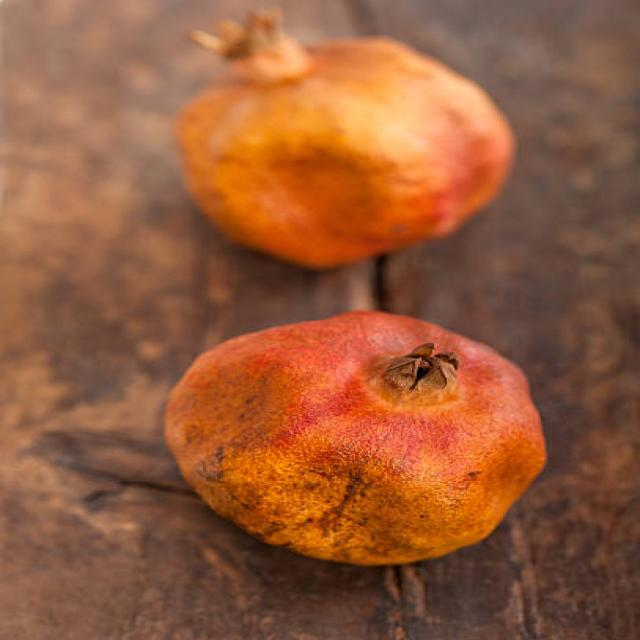overripe: (168, 301, 556, 570), (170, 9, 522, 268)
